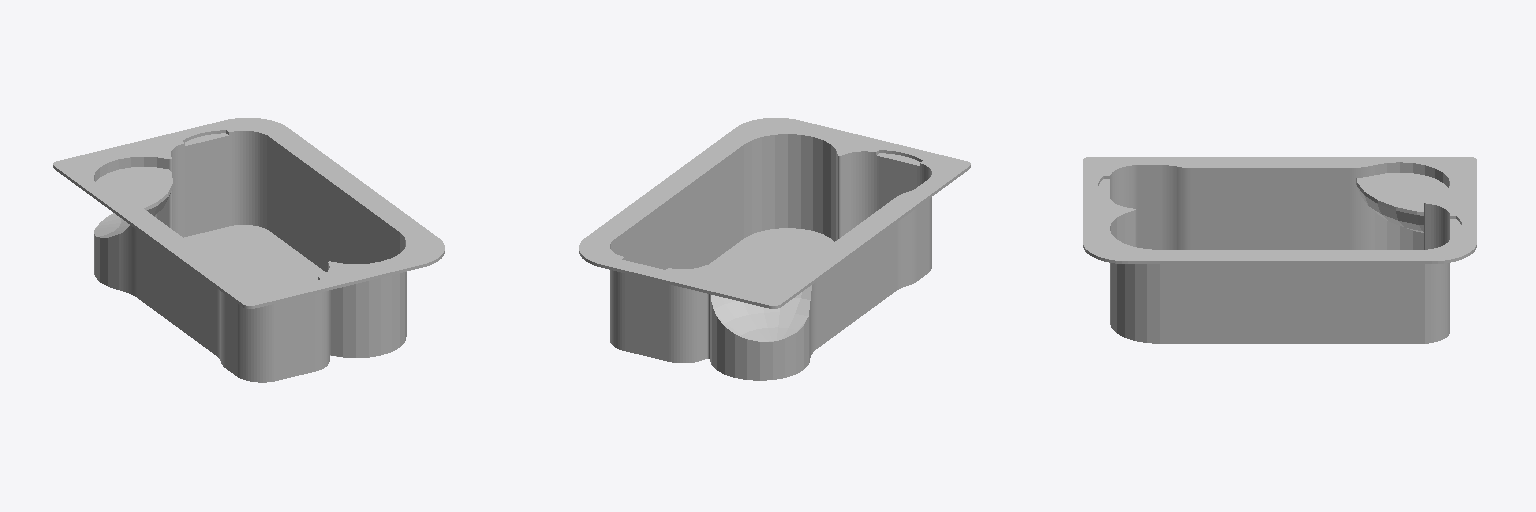
The model's file is ANUBIS_BLANCA.obj.
3 renders of one model, left to right at view 1: azimuth 30°, elevation 25°; view 2: azimuth 150°, elevation 25°; view 3: azimuth 270°, elevation 25°, orthographic.
Visible parts, largest first — view 1: Mesh1 Group1 Model; view 2: Mesh1 Group1 Model; view 3: Mesh1 Group1 Model.
Boxes of the visible parts, box(x1,y1,x2,y2) form: Mesh1 Group1 Model: box(53, 118, 444, 382); Mesh1 Group1 Model: box(579, 118, 970, 380); Mesh1 Group1 Model: box(1083, 157, 1476, 343).
Size of the model in its own units: 110 by 46 by 175.